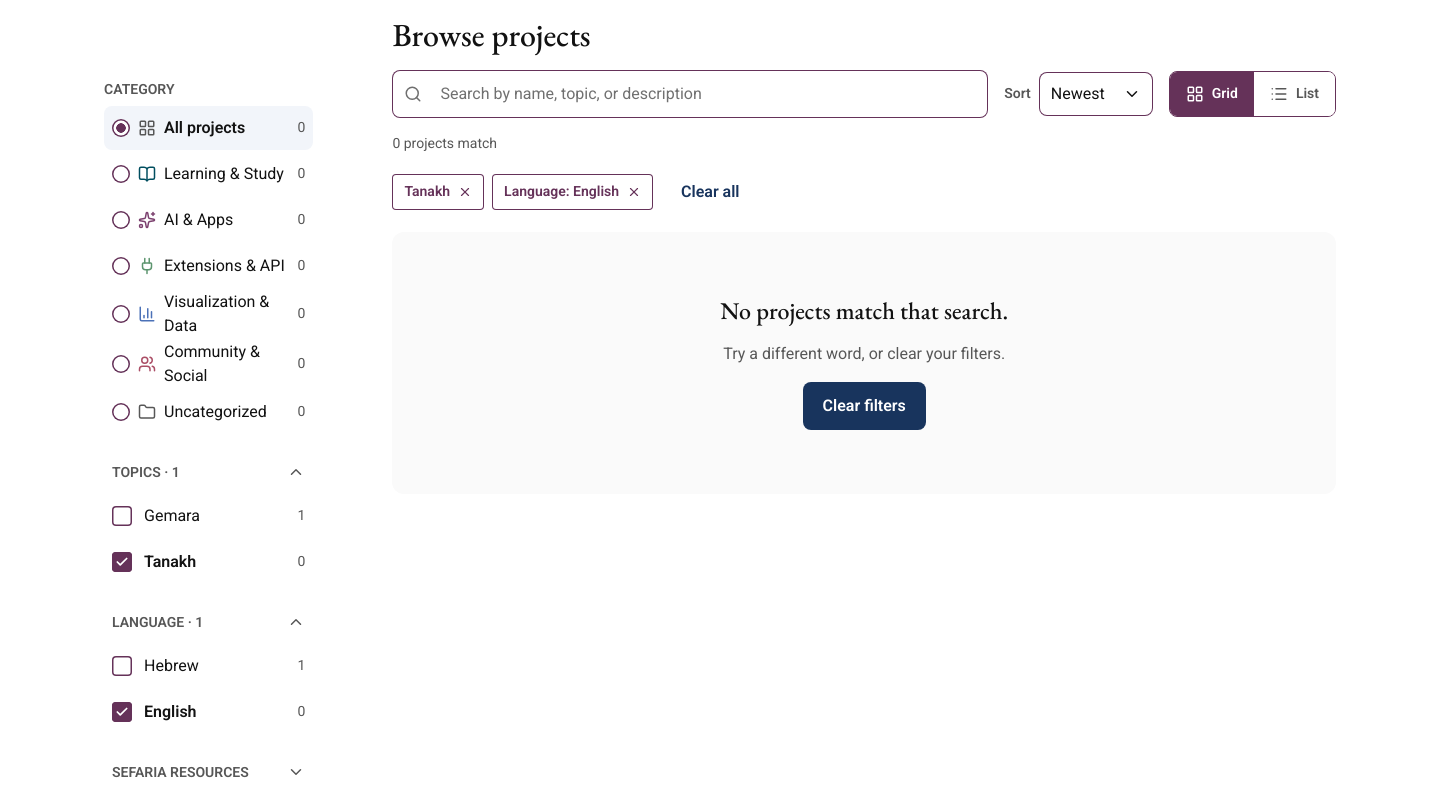
Test case: BrowsePage › filters › shows "Clear filters" on empty results and it clears the filter values
(page scrolled)
Check: the text "No projects match that search." is shown, box [720,296,1008,326]
Click the button "Clear filters".
click(864, 406)  # box [803,382,926,430]
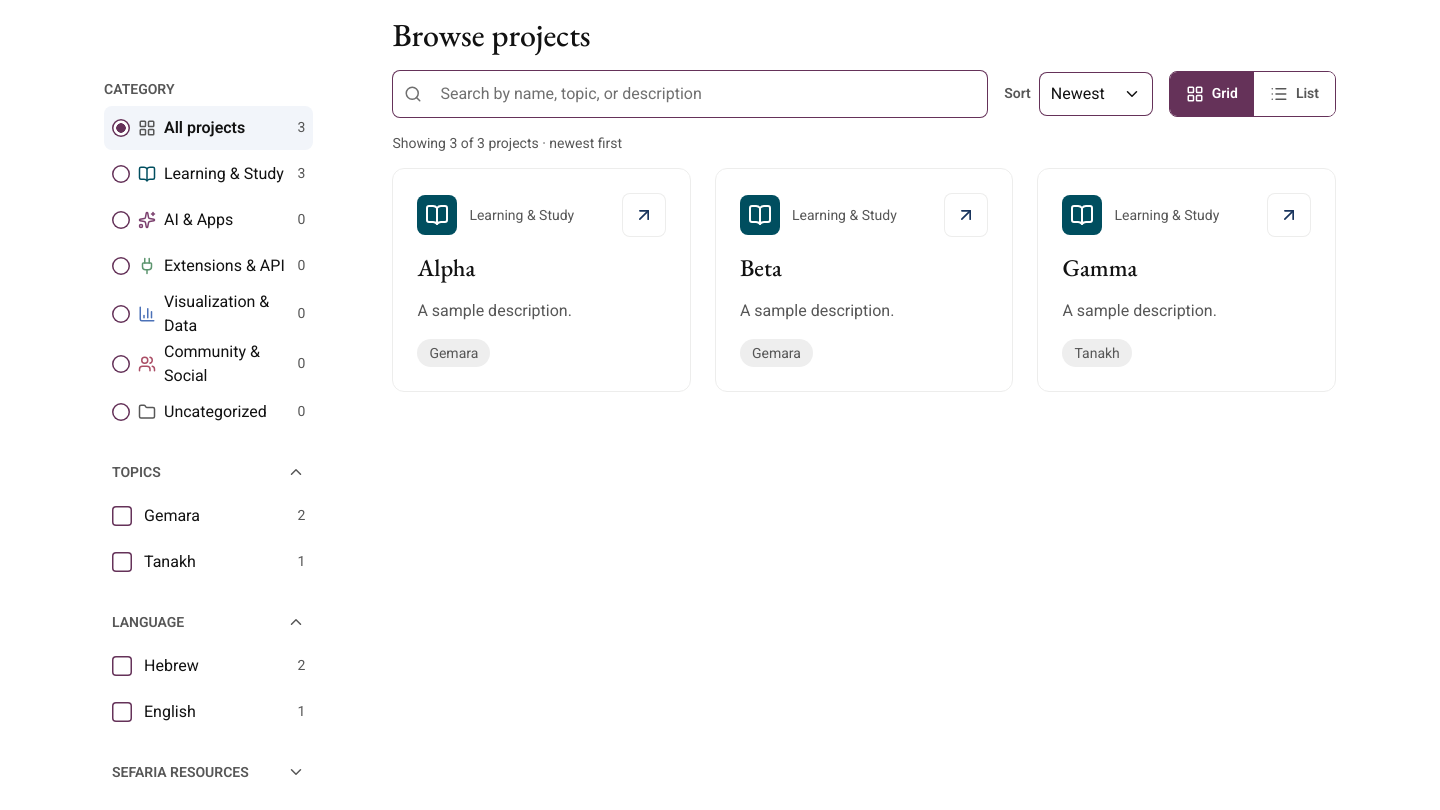
Check: the text "Showing 3 of 3 projects · newest first" is shown, box [392,135,622,151]
